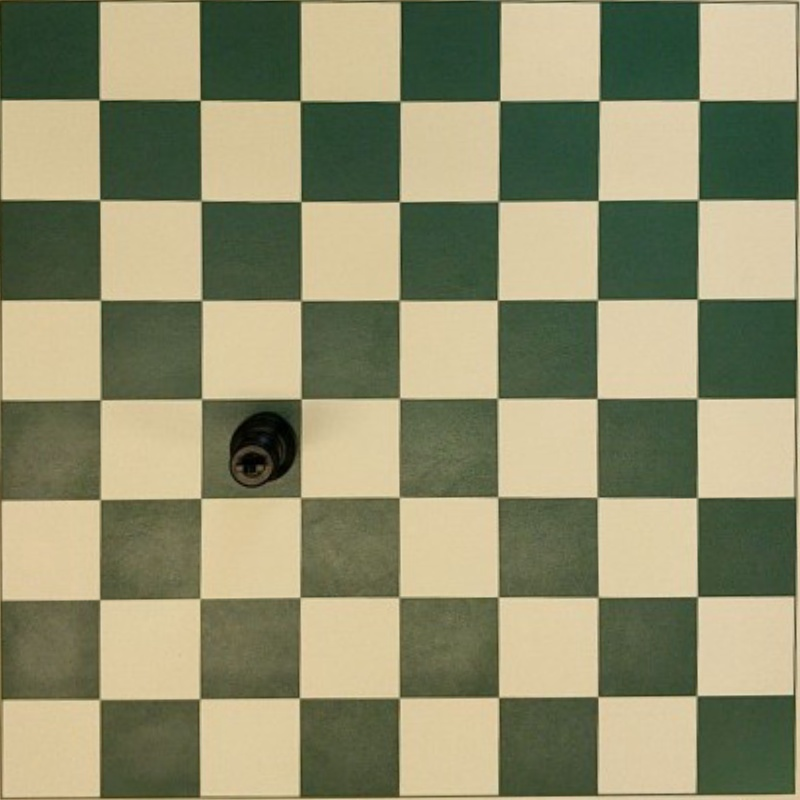black-king: (227, 411, 297, 488)
